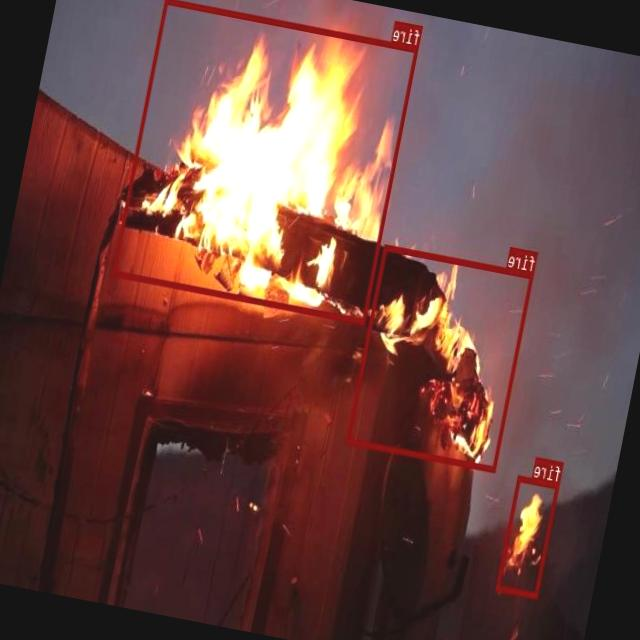fire: (113, 0, 420, 324), (347, 244, 536, 472), (496, 475, 560, 598)
